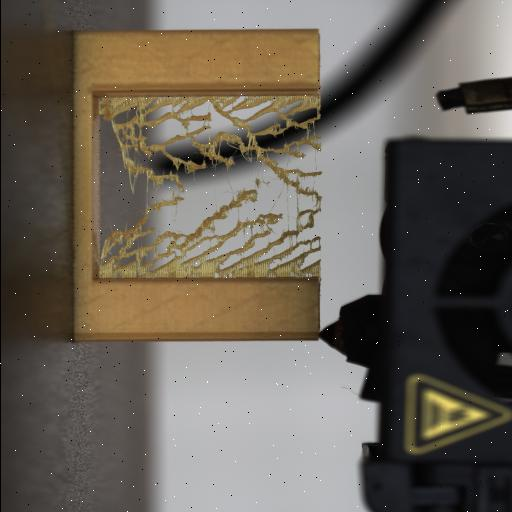stringing: (97, 96, 321, 278)
